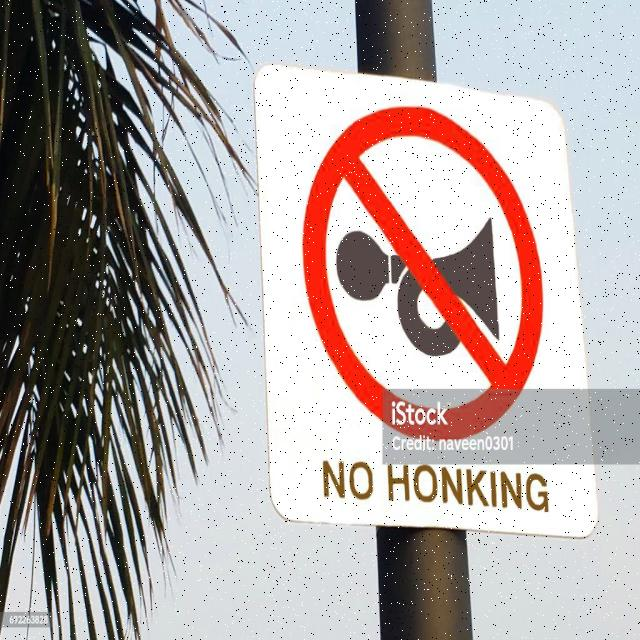No_Horn: (304, 103, 550, 384)
